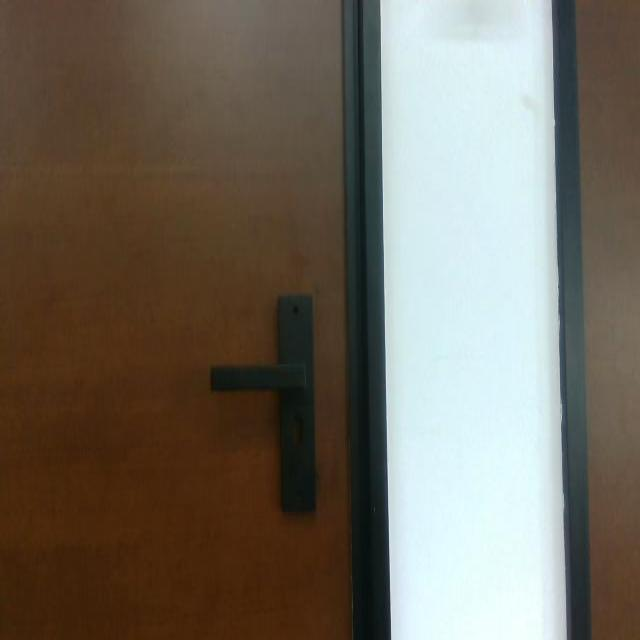doorhandle: (202, 354, 314, 398)
